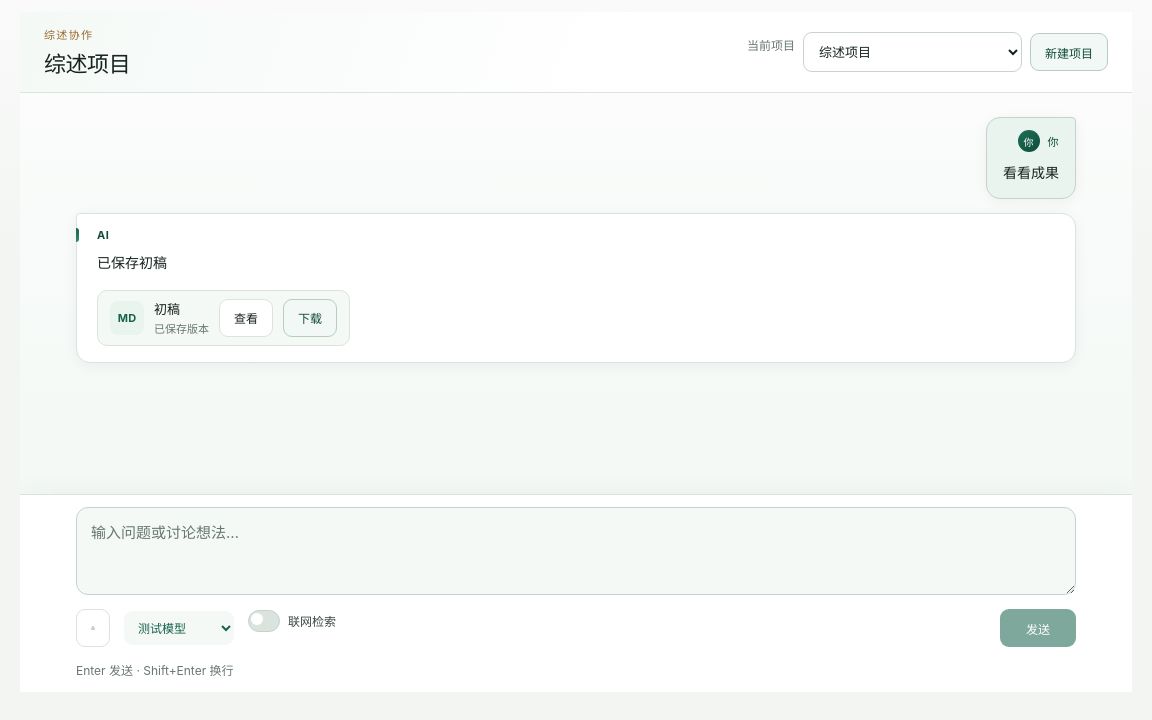
Scenario: shared Draft editor › opens project papers from the bottom icon without losing the composer
Type "尚未发送的讨论" into the text box named "输入项目问题". click: (576, 551)
box: left=76, top=507, right=1076, bottom=595
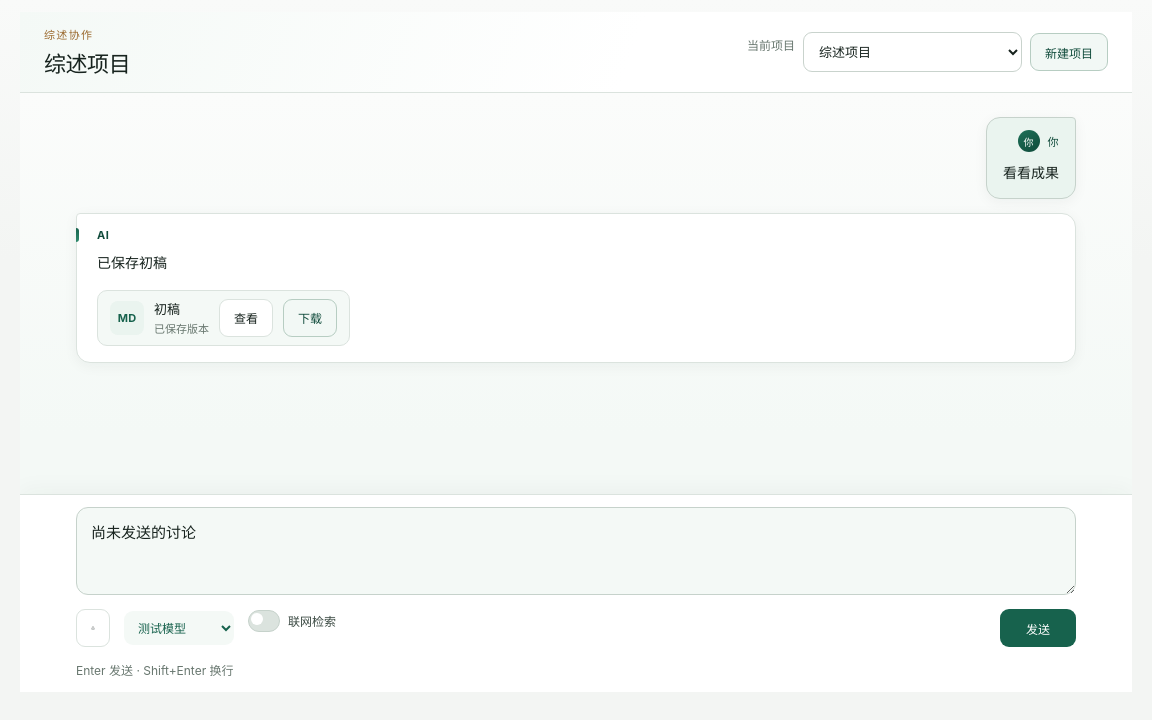
Click the button named "选择或上传项目文献". click: (93, 628)
box: left=76, top=609, right=110, bottom=647
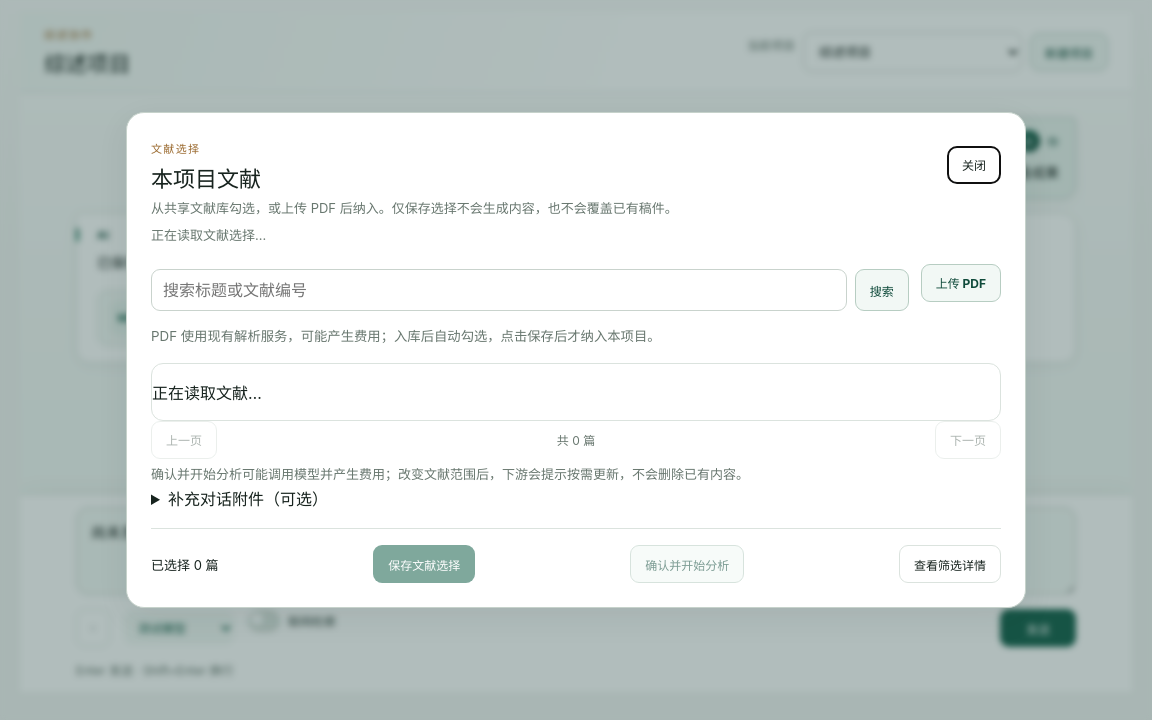
Expected: the dialog "本项目文献" is shown, left=126, top=112, right=1026, bottom=608
Click the button "关闭". click: (974, 165)
box: left=947, top=146, right=1001, bottom=184
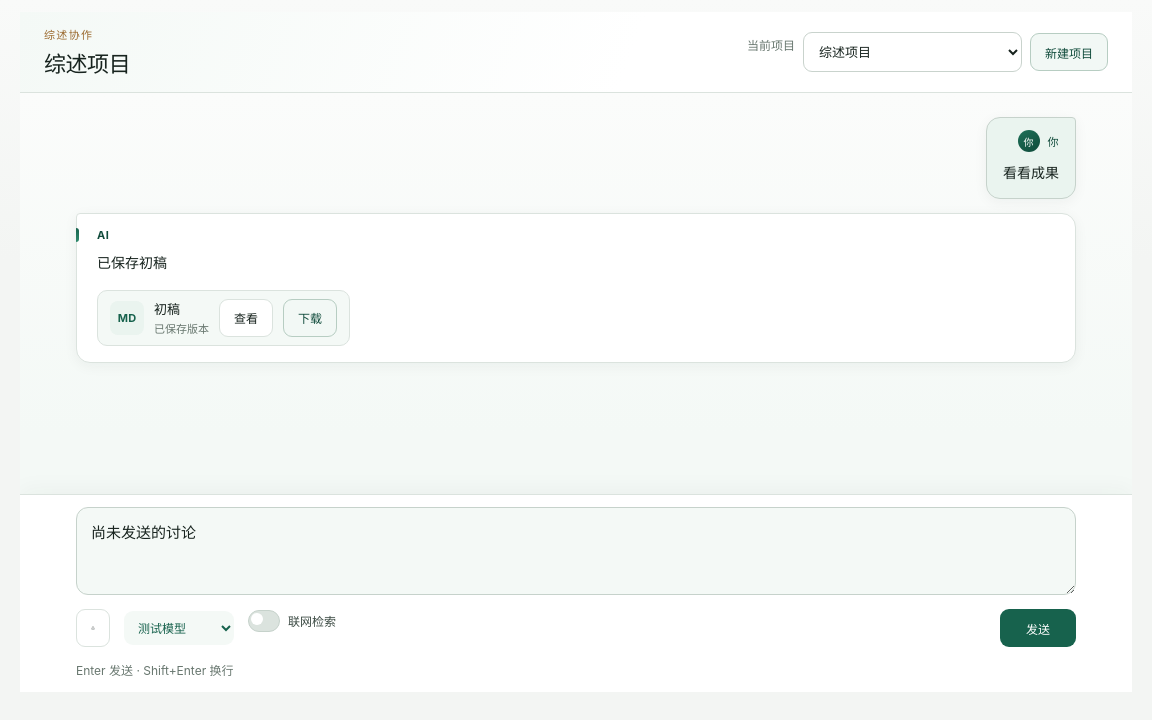
Expected: the dialog is gone
